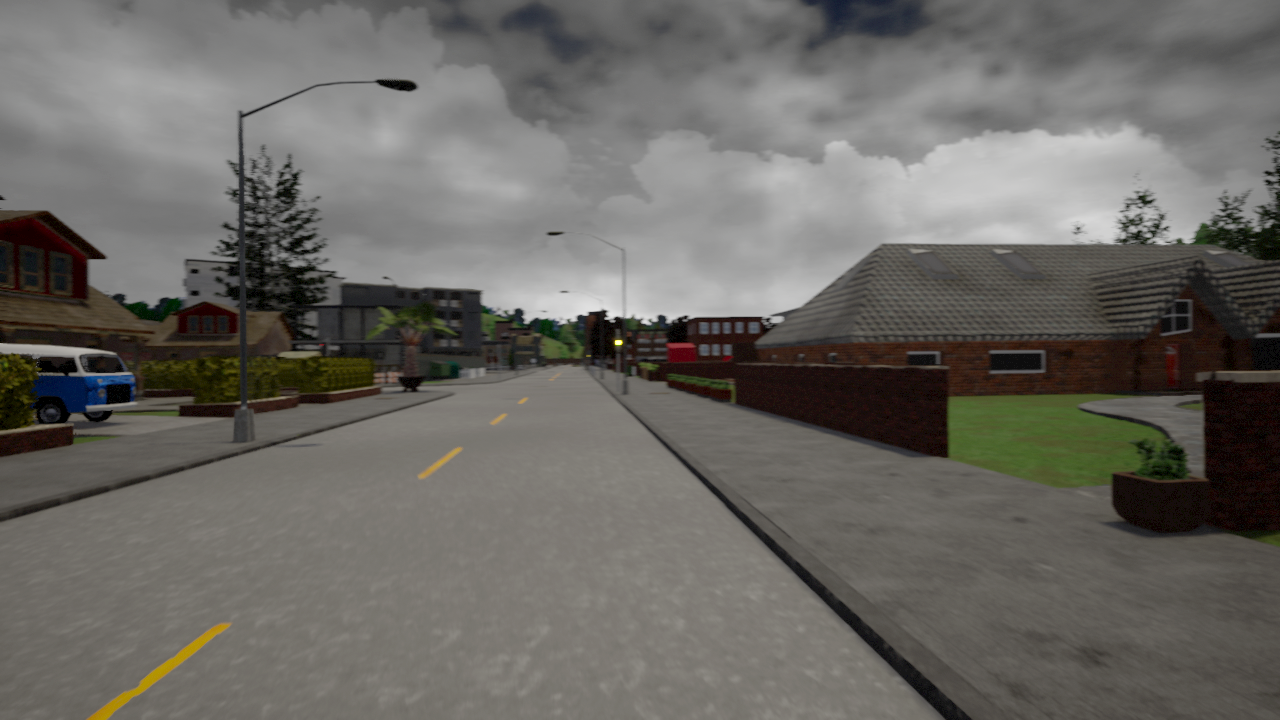yellow: (612, 335, 622, 354)
